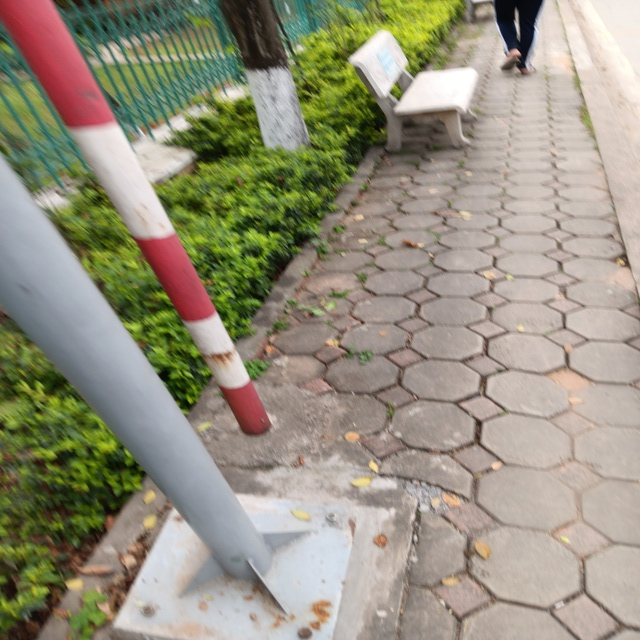gheda: (342, 25, 484, 158)
